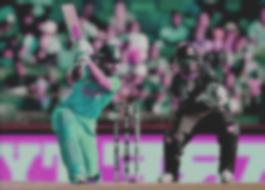batsman: (44, 1, 134, 190)
